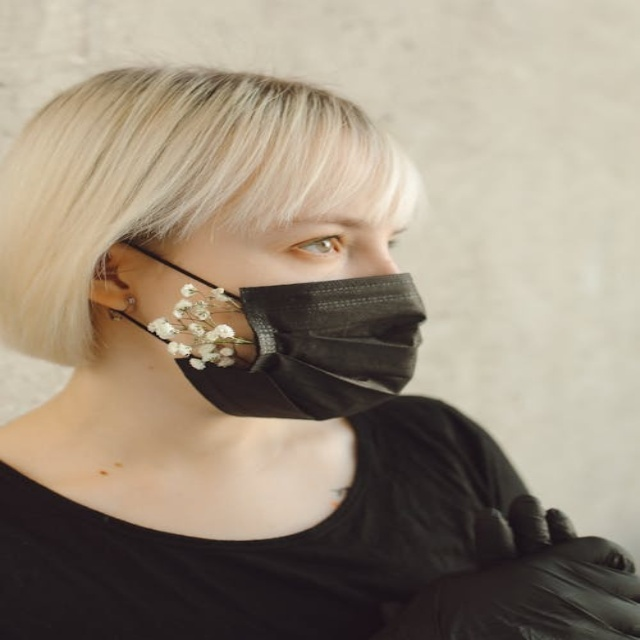Guantes: (368, 500, 638, 640)
Mascara: (114, 242, 424, 422)
Sin_gafas: (193, 218, 415, 269)
